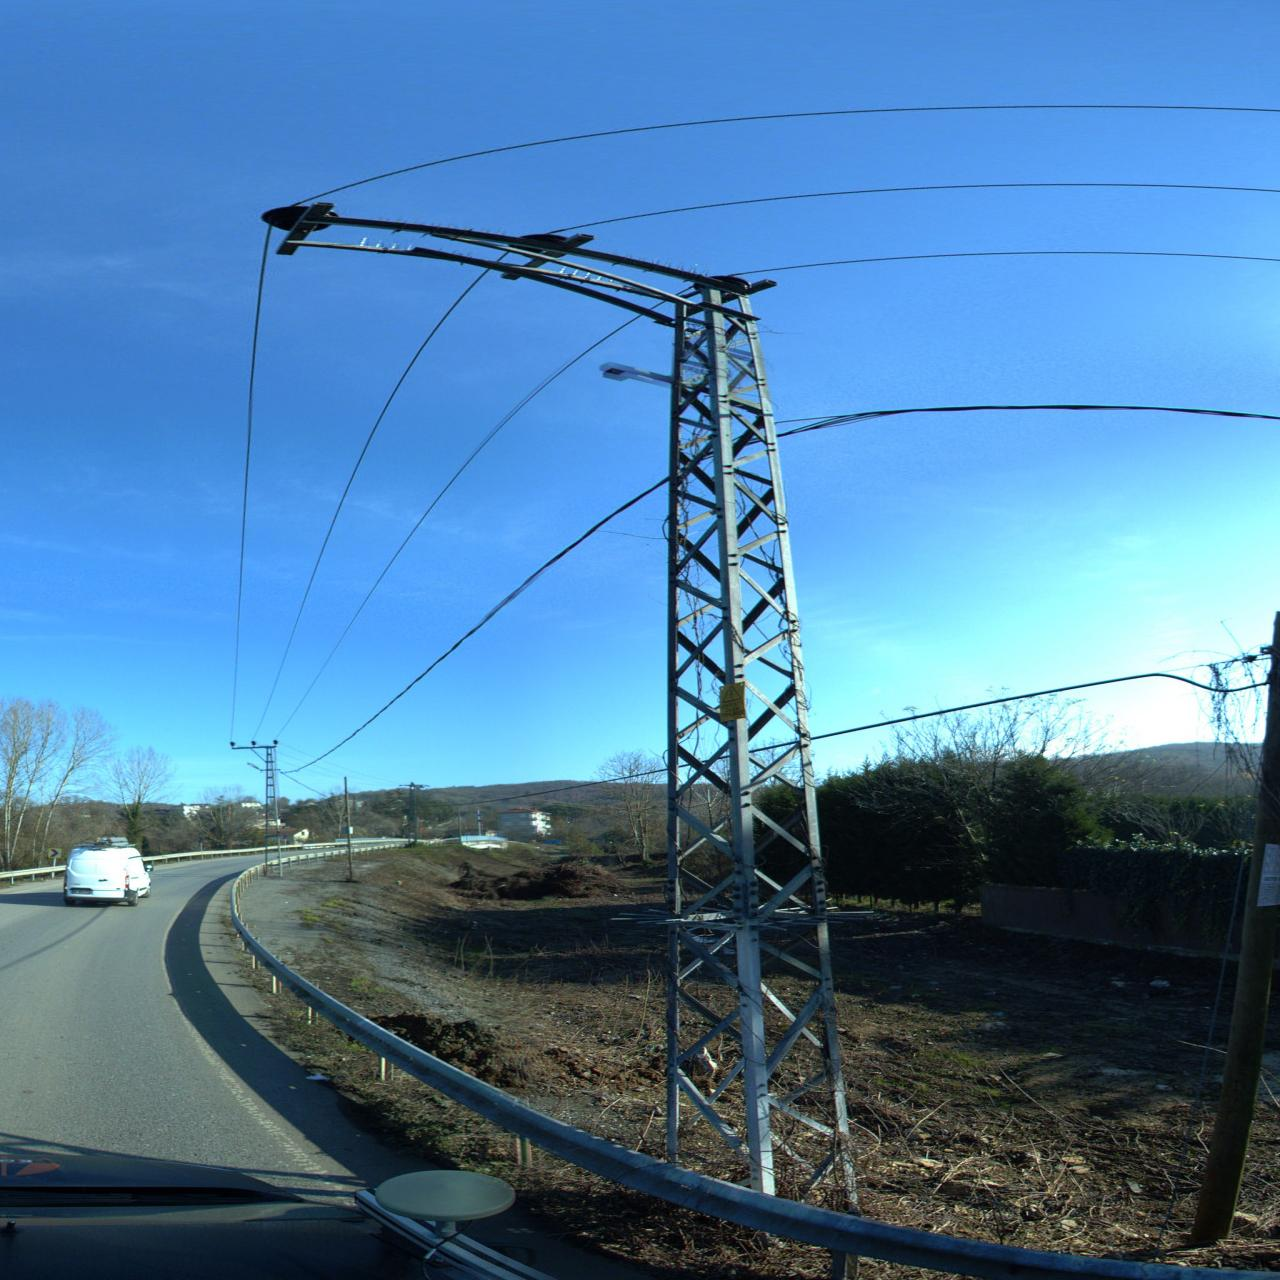Utility Pole Information Plate: (720, 680, 745, 724)
